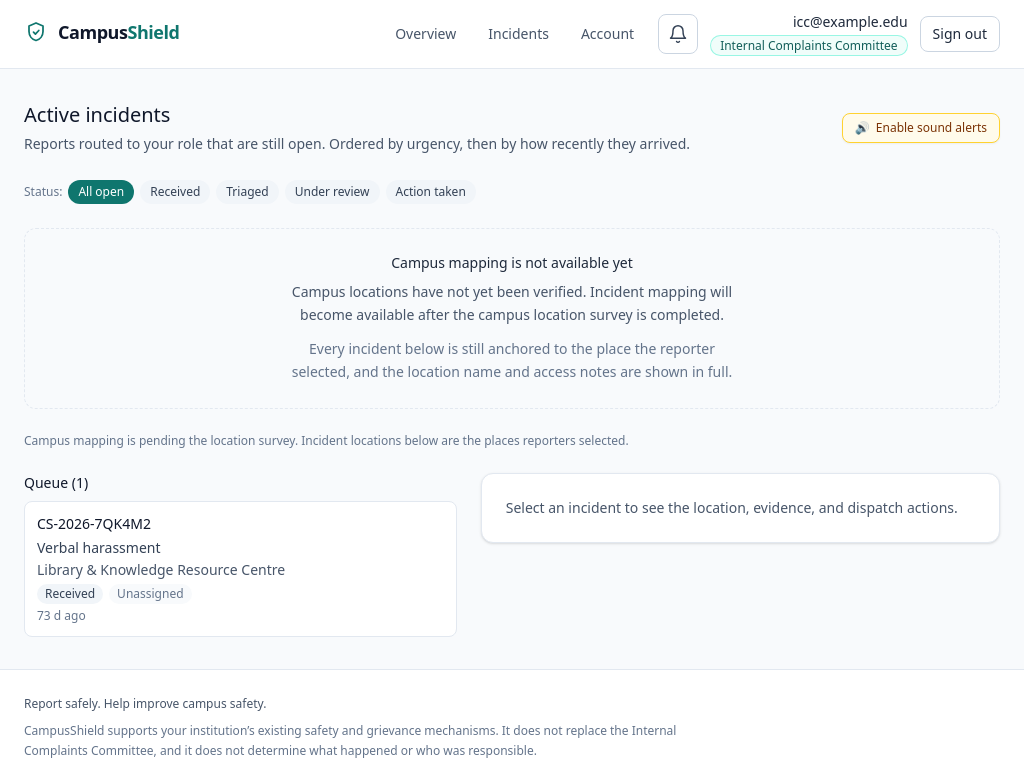
Test: IncidentsPage — incident detail › explains a withheld narrative rather than showing an empty box
This screenshot has width=1024, height=761.
Click the button "CS-2026-7QK4M2".
click(240, 569)  # box top-left (24, 501), bottom-right (457, 637)
(page scrolled)
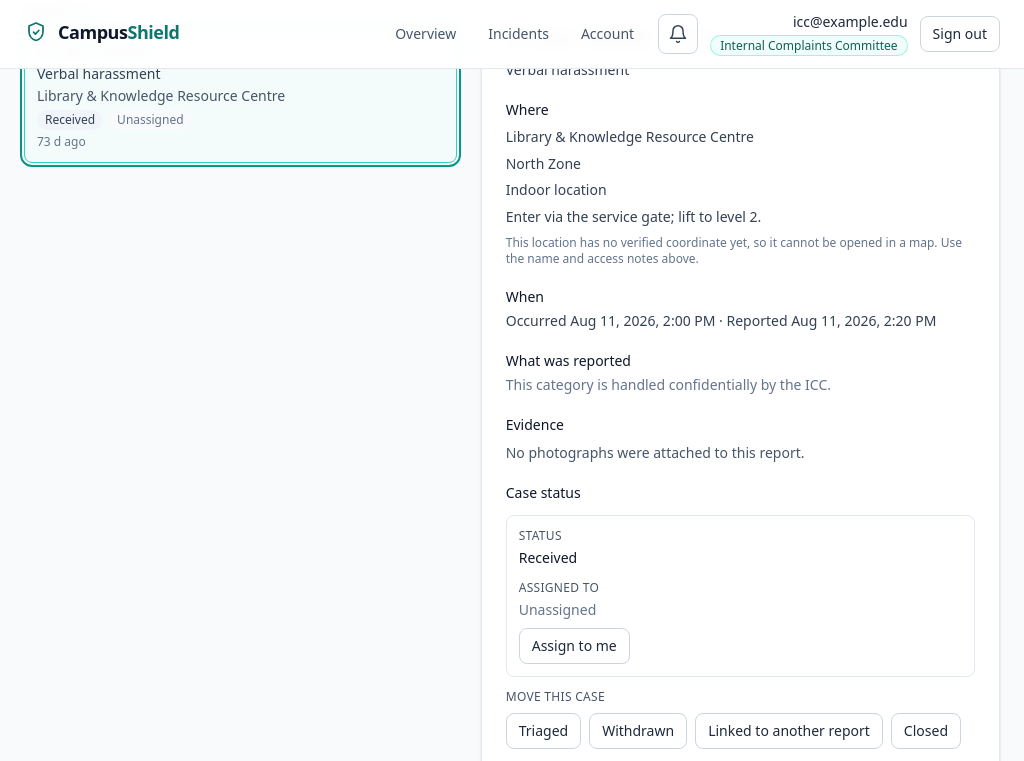
Check: the text "This category is handled confidentially by the ICC." is shown, box top-left (506, 375), bottom-right (831, 394)
